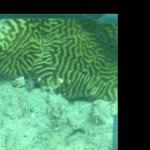alive: (3, 17, 115, 148)
